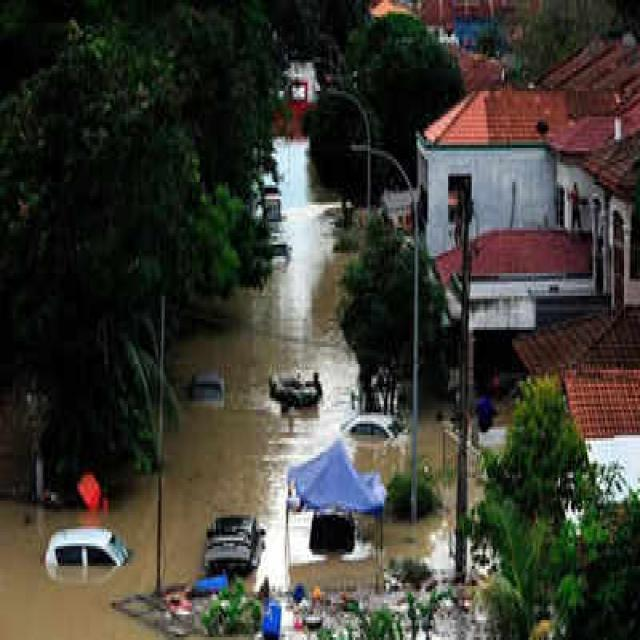flood: (164, 141, 357, 592), (0, 489, 156, 640), (383, 424, 456, 568), (255, 259, 311, 373), (289, 524, 381, 591), (351, 437, 409, 487)
house: (443, 222, 600, 334), (421, 88, 562, 201), (543, 36, 640, 120), (560, 364, 640, 442), (589, 124, 640, 209)
